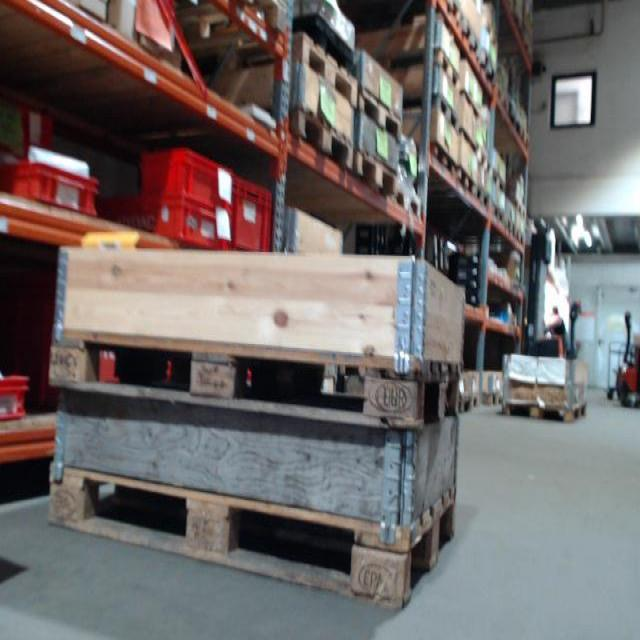pallet: (43, 458, 460, 614), (48, 319, 461, 428), (201, 34, 359, 109), (196, 107, 354, 176), (375, 50, 462, 95), (328, 152, 399, 205), (355, 88, 407, 144), (391, 92, 462, 133), (502, 398, 592, 426), (401, 143, 458, 180), (450, 392, 480, 425), (452, 167, 475, 198), (484, 386, 510, 409), (474, 193, 488, 215)
pallet_truck: (526, 227, 586, 366), (601, 300, 639, 413)
small_load_carrier: (86, 193, 233, 258), (139, 136, 231, 208), (2, 161, 102, 224), (227, 170, 277, 261), (0, 361, 35, 423)
